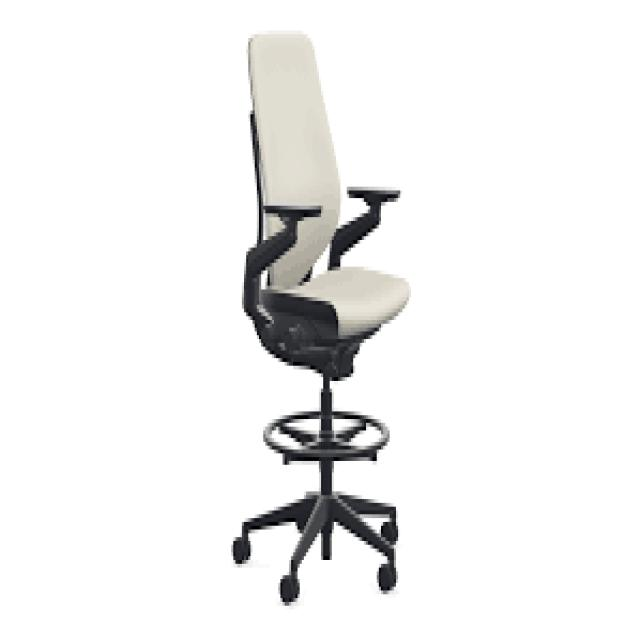chair: (199, 11, 447, 640)
